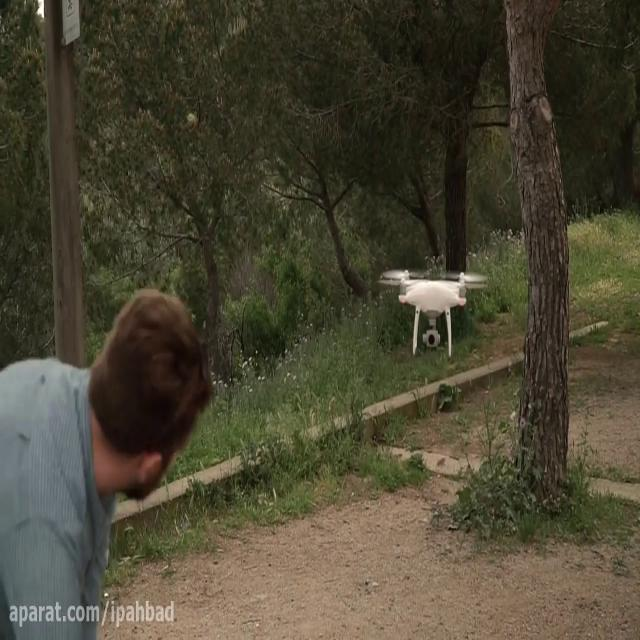drone: (376, 264, 489, 358)
